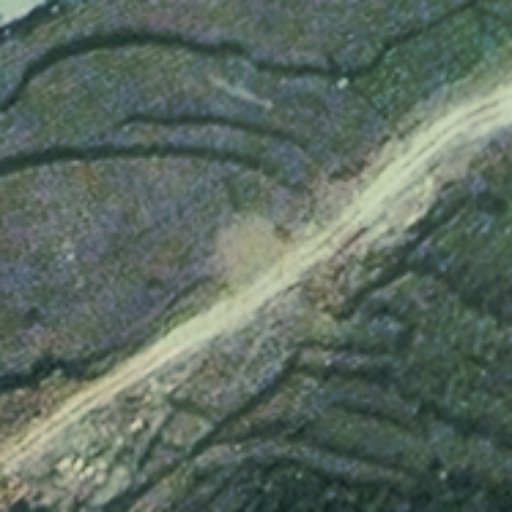landslide: (211, 210, 294, 290)
